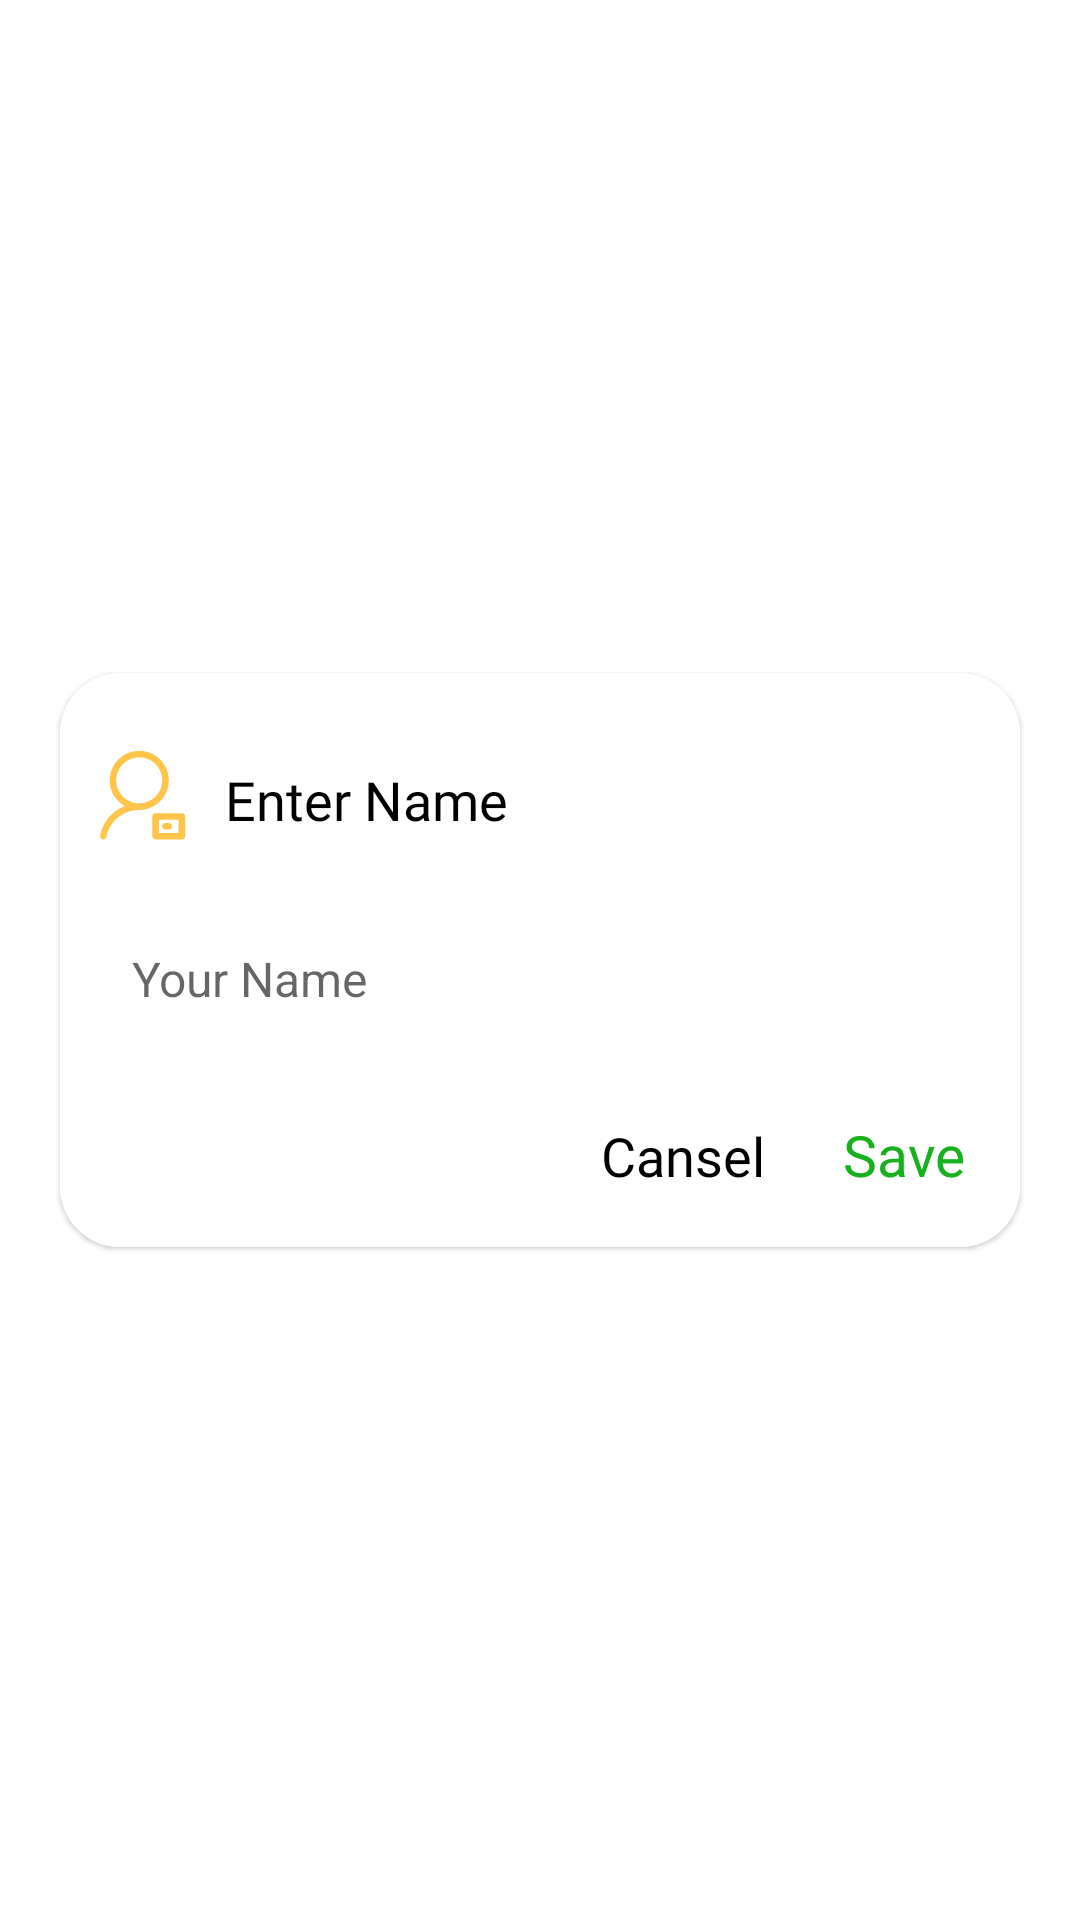

Icons on this 1080*1920 Android screen, each with the point to tap as (x=x, y=y):
profile: (x=143, y=795)
